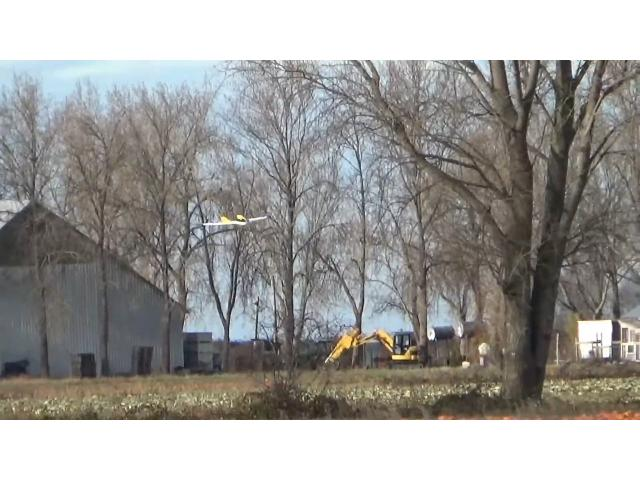Anti-Drone: (203, 215, 267, 226)
